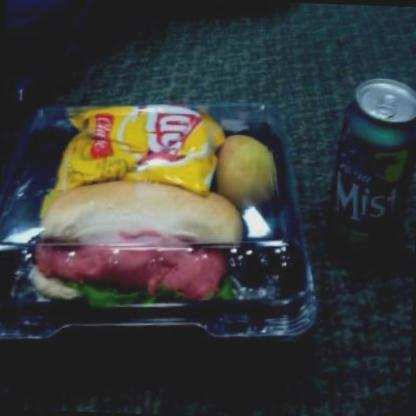alumunium_can: (327, 74, 416, 271)
